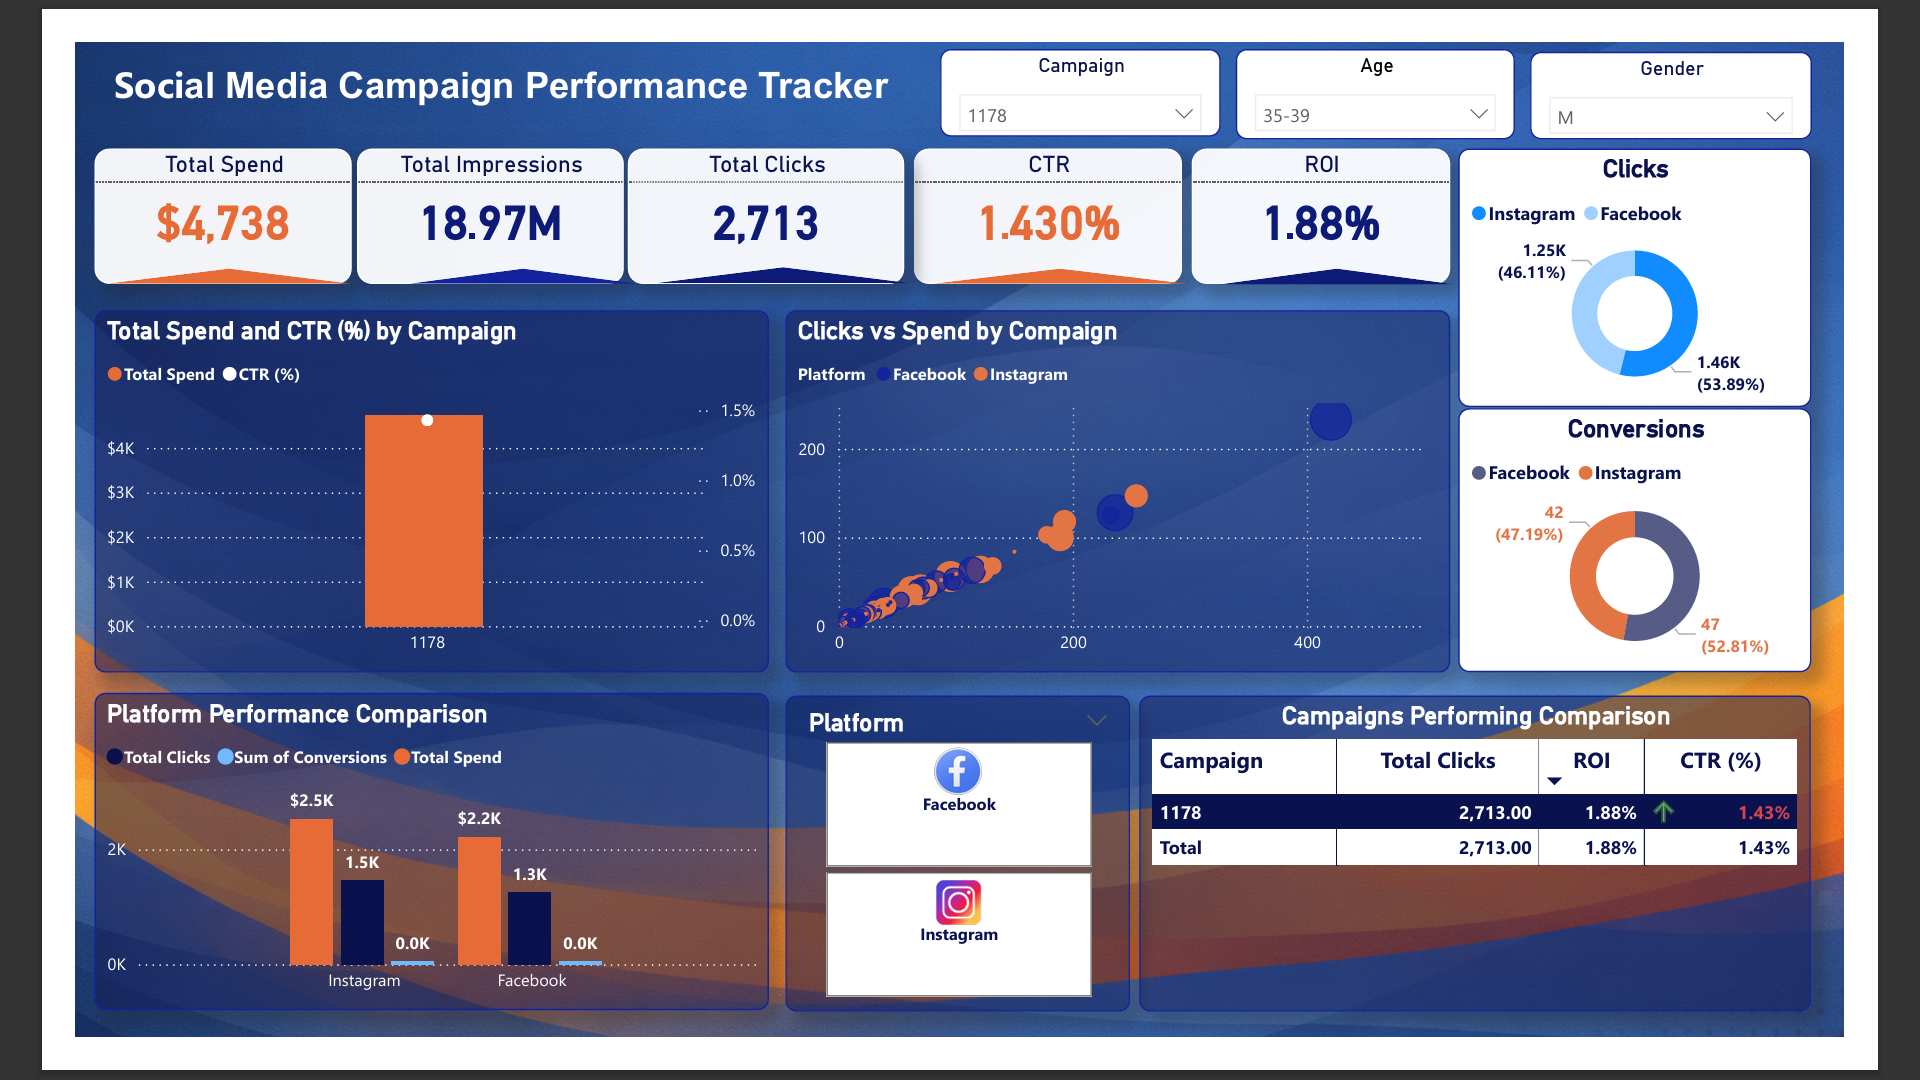

The dashboard page shown, as its layout file describes it:
{"tool":"powerbi","page":{"name":"Page 1","canvas":[1280,720],"ordinal":0},"visuals":[{"type":"card","title":"Total Spend","fields":{"Values":["data.Total Spend"]},"box":[13.7,78.2,188,98.8],"z":0},{"type":"card","title":"CTR","fields":{"Values":["data.CTR (%)"]},"box":[613.4,78.2,196.2,98.8],"z":1000},{"type":"card","title":"Total Clicks","fields":{"Values":["data.Total Clicks"]},"box":[404.4,78.2,202.1,98.8],"z":1500,"group":"g1"},{"type":"card","title":"ROI","fields":{"Values":["data.ROI"]},"box":[816.1,78.2,188.6,98.8],"z":2000},{"type":"shape","box":[425.7,165.5,184.5,11.5],"z":2001,"group":"g1"},{"type":"card","title":"Total Impressions","fields":{"Values":["data.Total Impressions"]},"box":[205.8,78.2,194.9,98.8],"z":3000},{"type":"shape","box":[836,165.5,172.2,11.5],"z":4000},{"type":"shape","box":[23.3,166,178.4,11],"z":5000},{"type":"shape","box":[627.1,166,185.2,11],"z":6000},{"type":"shape","box":[244.3,166,166,11],"z":7000},{"type":"textbox","box":[23.3,6.9,603.8,61.7],"z":8000},{"type":"group","id":"g1","title":"Group 1","box":[404.4,78.2,204.5,98.8],"z":9000},{"type":"lineClusteredColumnComboChart","fields":{"Category":["data.Campaign"],"Y":["data.Total Spend"],"Y2":["data.CTR (%)"]},"box":[13.7,196.2,492.6,264.8],"z":10000},{"type":"scatterChart","title":"Clicks vs Spend by Compaign","fields":{"X":["data.Spend"],"Y":["Sum(data.Clicks)"],"Size":["Sum(data.Conversions)"],"Series":["data.Platform"]},"box":[518.7,196.2,485.8,264.8],"z":11000},{"type":"donutChart","title":"Clicks","fields":{"Y":["data.Total Clicks"],"Category":["data.Platform"]},"box":[1011.3,78.2,258,189.4],"z":13000},{"type":"donutChart","title":" Conversions","fields":{"Y":["Sum(data.Conversions)"],"Category":["data.Platform"]},"box":[1011.3,267.6,258,193.5],"z":14000},{"type":"slicer","fields":{"Values":["data.Platform"]},"box":[518.8,477.5,252.3,230.9],"z":15000},{"type":"tableEx","title":" Campaigns Performing Comparison","fields":{"Values":["data.Campaign","data.Total Clicks","data.ROI","data.CTR (%)","select"]},"box":[778,477.5,491.3,230.5],"z":16000},{"type":"clusteredColumnChart","title":"Platform Performance Comparison","fields":{"Category":["data.Platform"],"Y":["data.Total Clicks","Sum(data.Conversions)","data.Total Spend"]},"box":[14.3,476.1,493.2,232.3],"z":17000},{"type":"slicer","title":"Campaign","fields":{"Values":["data.Campaign"]},"box":[632.6,5.5,205,64.5],"z":18000},{"type":"slicer","title":"Age","fields":{"Values":["data.age"]},"box":[848,5.5,204.5,65.9],"z":19000},{"type":"slicer","title":"Gender","fields":{"Values":["data.gender"]},"box":[1063.5,6.9,205.8,64.5],"z":20000},{"type":"image","box":[613.1,513.1,64.6,39.4],"z":21000},{"type":"image","box":[584.8,605.1,122.2,48.5],"z":22000}]}

Visuals, with their boxes in screenshot pixels (x1, y1, x2, y2), scaled from the page's 1280x720 canvas onto the 1920x1080 screenshot:
"Total Spend" card: <box>21,117,303,266</box>
"CTR" card: <box>920,117,1214,266</box>
"Total Clicks" card: <box>607,117,910,266</box>
"ROI" card: <box>1224,117,1507,266</box>
shape: <box>639,248,915,266</box>
"Total Impressions" card: <box>309,117,601,266</box>
shape: <box>1254,248,1512,266</box>
shape: <box>35,249,303,266</box>
shape: <box>941,249,1218,266</box>
shape: <box>366,249,615,266</box>
textbox: <box>35,10,941,103</box>
"Group 1" group: <box>607,117,913,266</box>
lineClusteredColumnComboChart - data.Campaign x data.Total Spend: <box>21,294,759,692</box>
"Clicks vs Spend by Compaign" scatterChart: <box>778,294,1507,692</box>
"Clicks" donutChart: <box>1517,117,1904,401</box>
" Conversions" donutChart: <box>1517,401,1904,692</box>
slicer - data.Platform: <box>778,716,1157,1063</box>
" Campaigns Performing Comparison" tableEx: <box>1167,716,1904,1062</box>
"Platform Performance Comparison" clusteredColumnChart: <box>21,714,761,1063</box>
"Campaign" slicer: <box>949,8,1256,105</box>
"Age" slicer: <box>1272,8,1579,107</box>
"Gender" slicer: <box>1595,10,1904,107</box>
image: <box>920,770,1017,829</box>
image: <box>877,908,1060,980</box>
